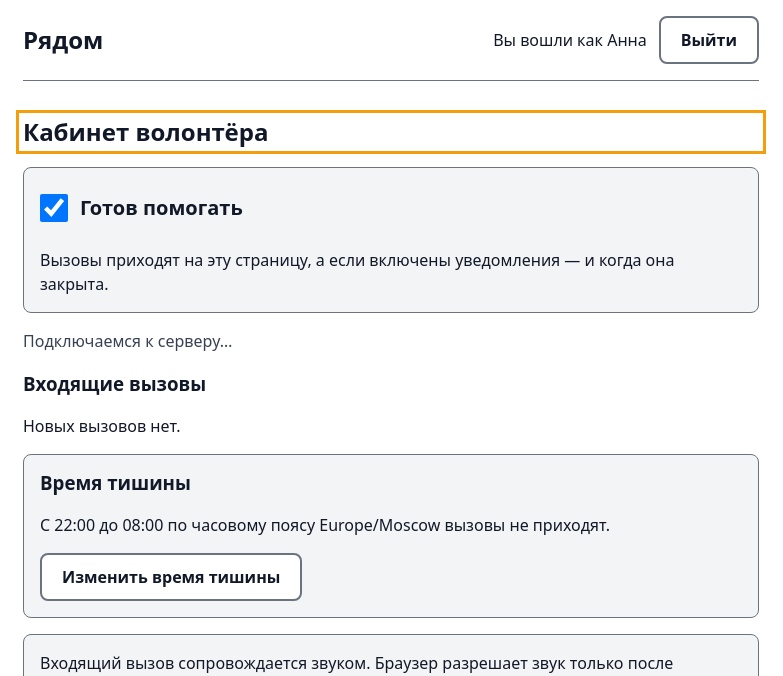
Test: volunteer page › turns quiet hours off
The width and height of the screenshot is (783, 676).
Expected: the heading "Кабинет волонтёра" is shown, x1=23 y1=115 x2=268 y2=148
Click the button "Изменить время тишины" at x=171, y=577, box x1=40 y1=553 x2=302 y2=601
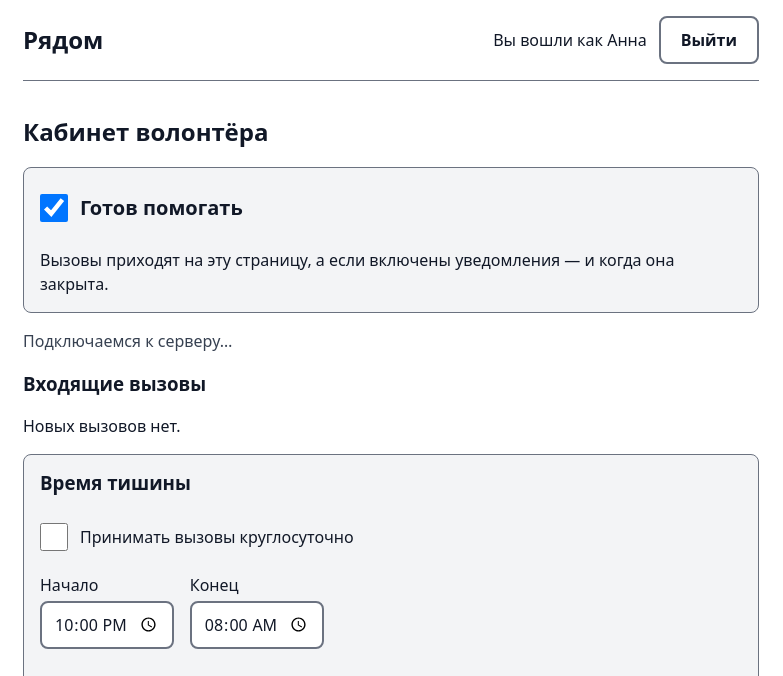
Expected: the time field labelled "Начало" holds "22:00", x1=40 y1=601 x2=174 y2=649
Click the checkbox labelled "Принимать вызовы круглосуточно" at x=54, y=537, box x1=40 y1=523 x2=68 y2=551
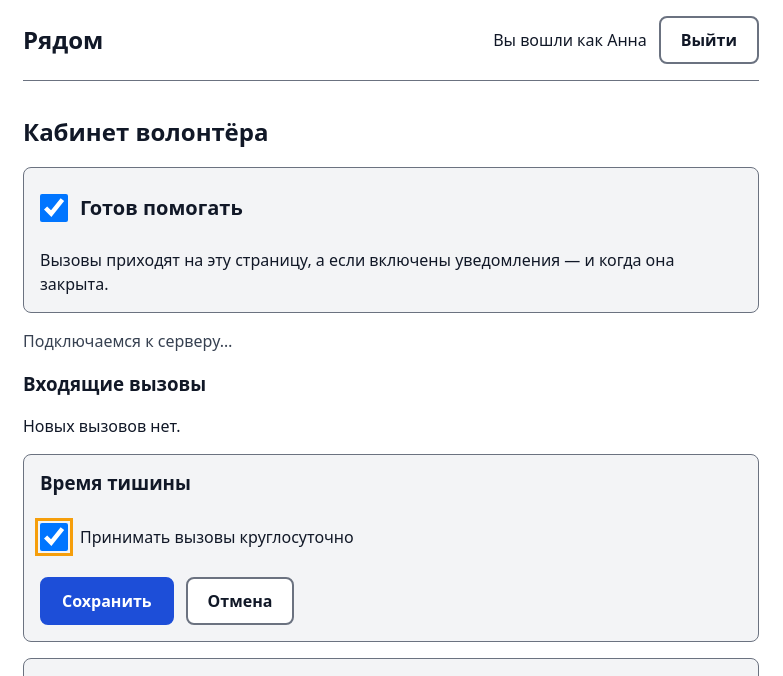
Click the button "Сохранить" at x=107, y=601, box x1=40 y1=577 x2=174 y2=625
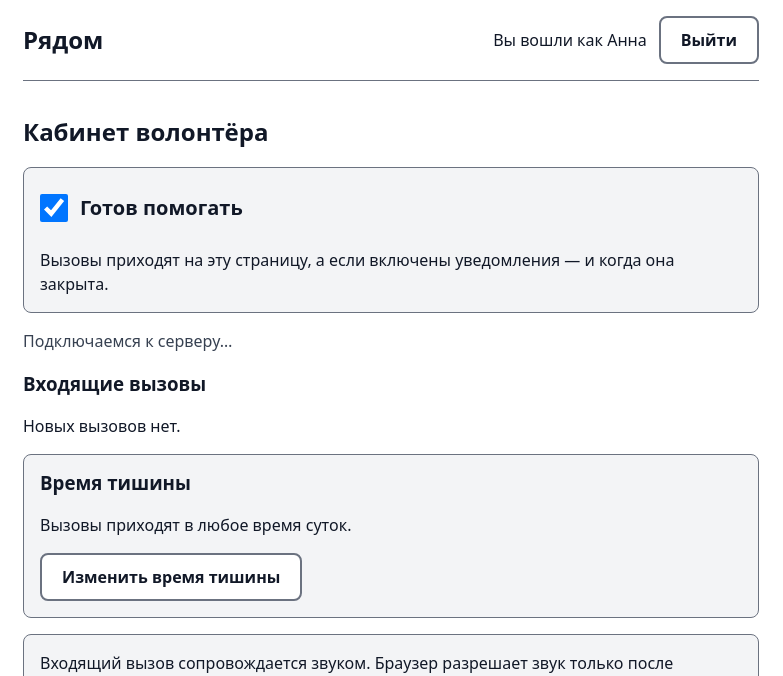
Expected: the text "Вызовы приходят в любое время суток." is shown, x1=40 y1=514 x2=352 y2=536
